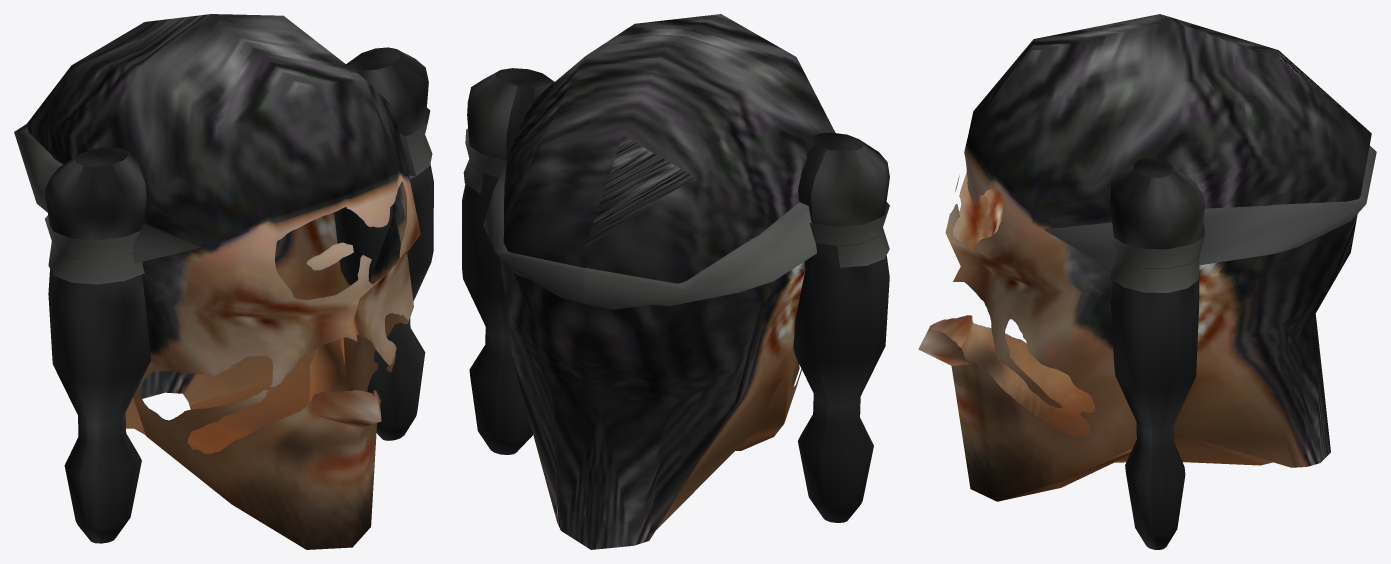
Rendered from xion_isw_e_3.dae.
3 renders of one model, left to right at view 1: azimuth 30°, elevation 25°; view 2: azimuth 150°, elevation 25°; view 3: azimuth 270°, elevation 25°, orthographic. The views are drawn at different scales.
Visible parts, largest first — view 1: xion_isw_e_3; view 2: xion_isw_e_3; view 3: xion_isw_e_3.
Boxes of the visible parts, bbox=[...] form: xion_isw_e_3: bbox=[14, 14, 433, 549]; xion_isw_e_3: bbox=[462, 14, 889, 549]; xion_isw_e_3: bbox=[918, 14, 1376, 549].
Size of the model in its own units: 0.5463 by 0.562 by 0.6106.
